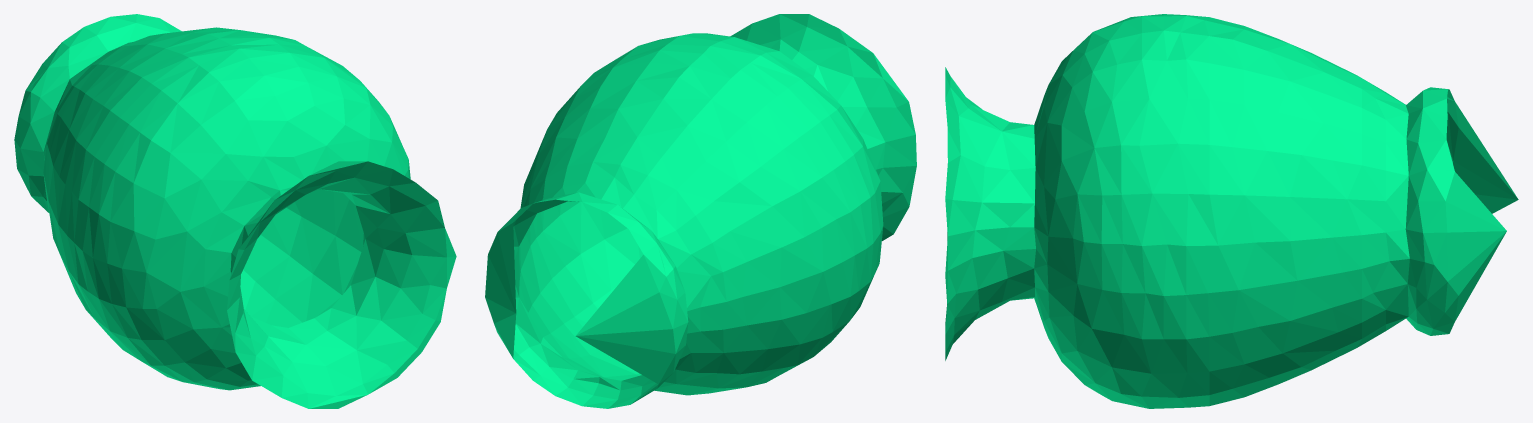
Rendered from model_align.obj.
3 renders of one model, left to right at view 1: azimuth 30°, elevation 25°; view 2: azimuth 150°, elevation 25°; view 3: azimuth 270°, elevation 25°, orthographic. The views are drawn at different scales.
Size of the model in its own units: 0.0769 by 0.0769 by 0.1103.
